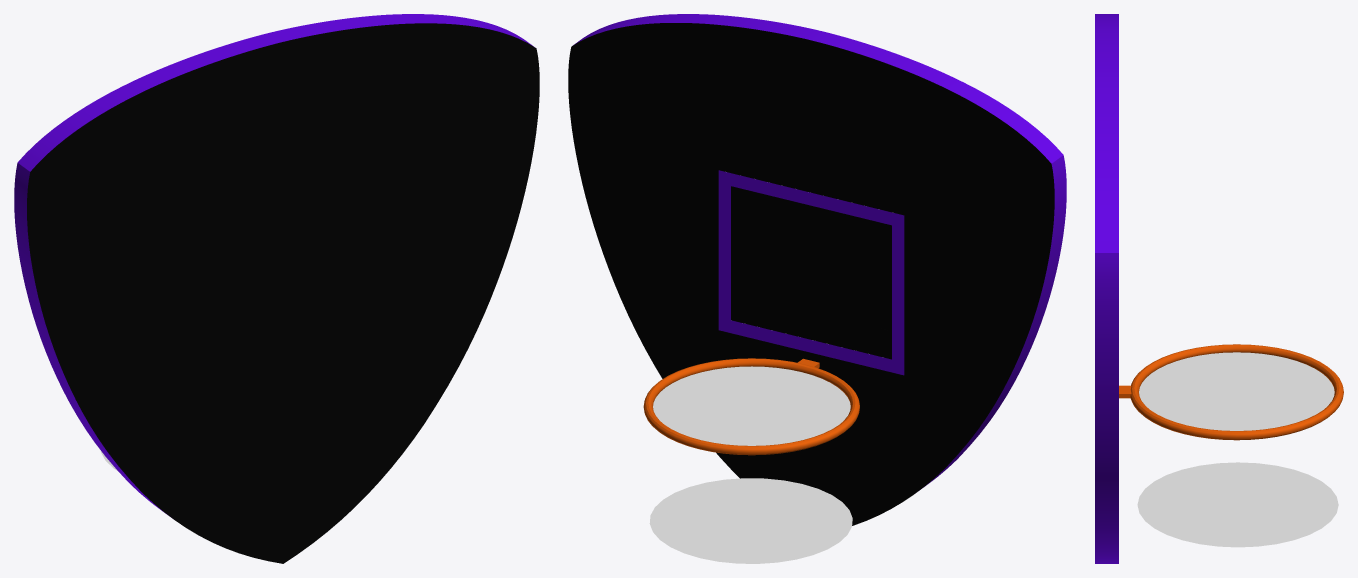
Rendered from hoopModel.glb.
3 renders of one model, left to right at view 1: azimuth 30°, elevation 25°; view 2: azimuth 150°, elevation 25°; view 3: azimuth 270°, elevation 25°, orthographic. The views are drawn at different scales.
Visible parts, largest first — view 1: BackBoard; view 2: BackBoard, BasketTrigger_2, BasketTrigger_1; view 3: BackBoard, BasketTrigger_2, BasketTrigger_1.
Boxes of the visible parts, bbox=[...] form: BackBoard: bbox=[14, 14, 539, 563]; BackBoard: bbox=[568, 14, 1066, 525]; BasketTrigger_2: bbox=[649, 478, 852, 563]; BasketTrigger_1: bbox=[653, 366, 850, 445]; BackBoard: bbox=[1095, 14, 1343, 563]; BasketTrigger_2: bbox=[1137, 462, 1338, 547]; BasketTrigger_1: bbox=[1139, 352, 1334, 430].
Size of what is drawn, in the model's own units: 9.13 by 8.88 by 4.09.
Materials: 3 (1 with a texture image).
